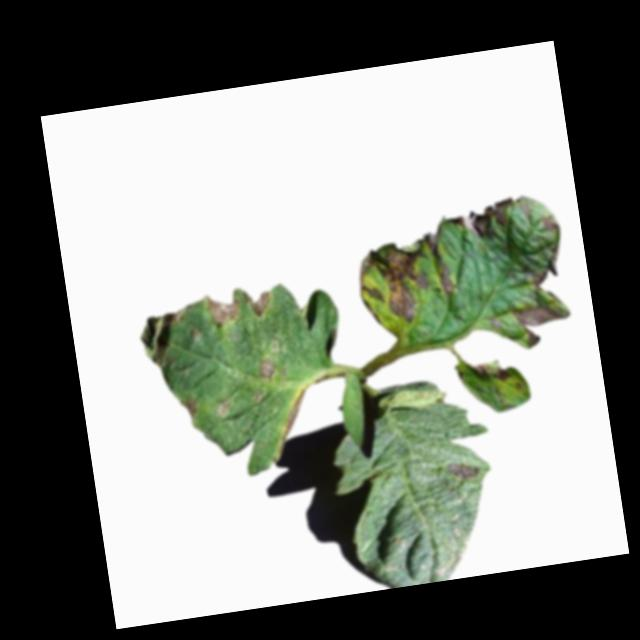Early_blight: (353, 239, 436, 333), (445, 197, 516, 248), (266, 388, 312, 457), (509, 300, 573, 347), (527, 232, 573, 289), (423, 229, 457, 300), (205, 290, 242, 331), (469, 356, 512, 388), (241, 285, 274, 320), (449, 459, 482, 484), (178, 396, 201, 421), (257, 358, 278, 384), (538, 212, 560, 234)
